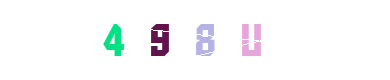4: (74, 0, 154, 80)
8: (155, 0, 235, 80)
9: (120, 0, 200, 80)
U: (185, 0, 265, 80)
